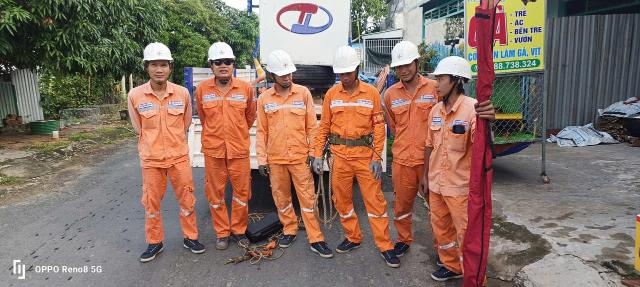gloves: (419, 145, 439, 205), (474, 98, 504, 128), (253, 161, 280, 180), (370, 159, 390, 180), (312, 155, 328, 175), (306, 155, 315, 175)
harness: (320, 127, 381, 151)
helmet: (320, 41, 366, 76), (254, 48, 300, 82), (135, 37, 184, 67), (202, 35, 244, 70), (375, 40, 422, 71), (424, 52, 475, 80)
shoes: (329, 235, 365, 259), (135, 239, 167, 264), (372, 244, 400, 272), (301, 238, 335, 261), (179, 234, 209, 255), (386, 238, 412, 261), (433, 266, 464, 285), (424, 248, 450, 269), (210, 231, 233, 254), (275, 230, 298, 250), (229, 234, 255, 247)
